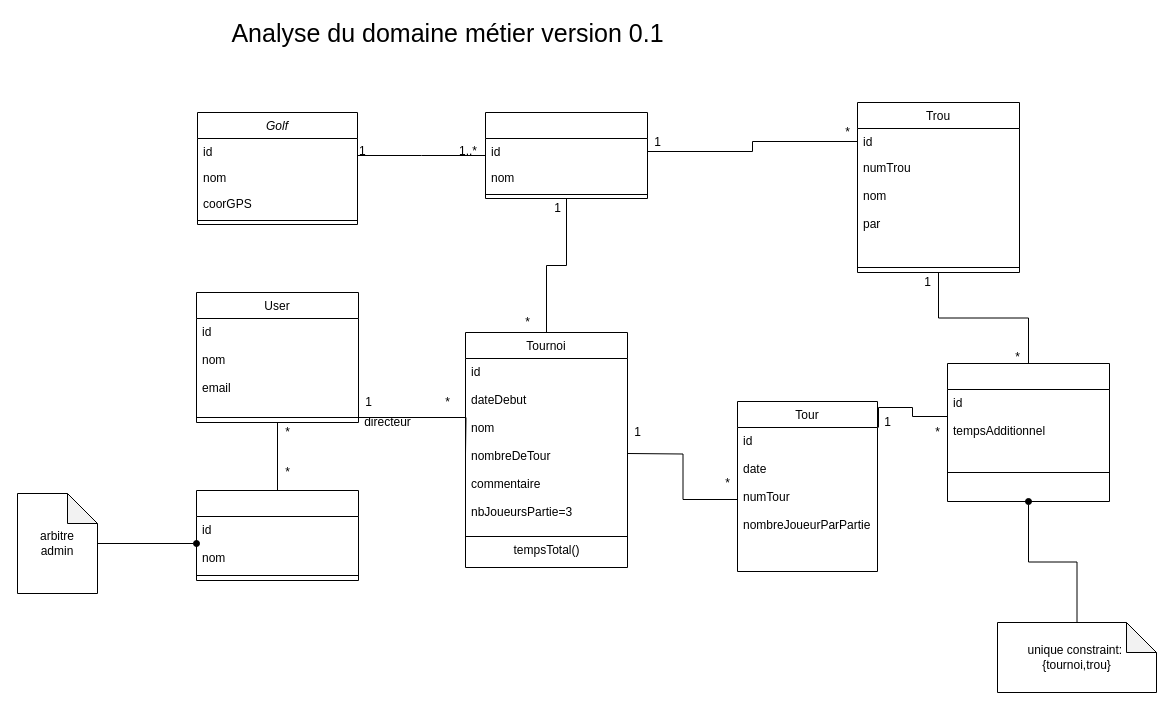
Image size: 1174x710. Some labels were removed from this diagram. The box of each missing label's shape, as (x1, y1, x2, y2) in pixels:
Ajustement: (946, 362, 1110, 502)
Parcours: (484, 112, 648, 198)
Role: (196, 490, 358, 580)
